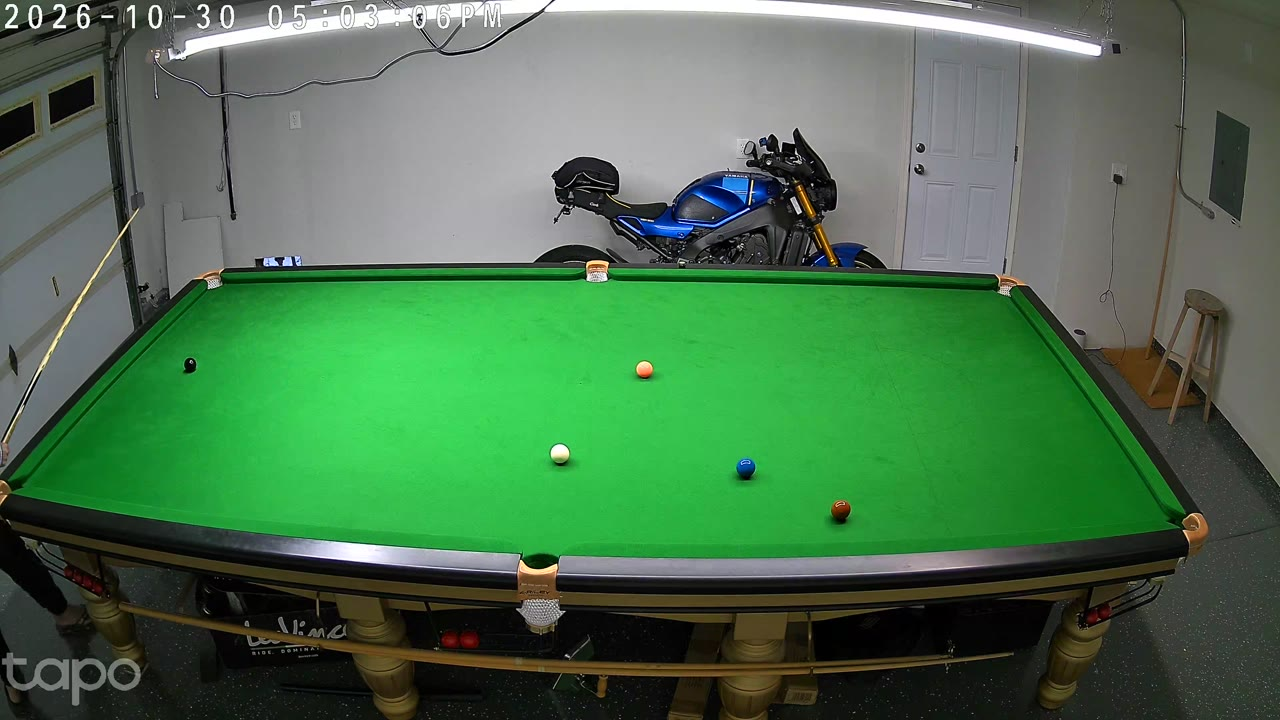black: (184, 356, 196, 375)
blue: (737, 456, 755, 482)
brown: (831, 498, 851, 525)
pink: (636, 360, 653, 381)
white: (550, 442, 569, 466)
